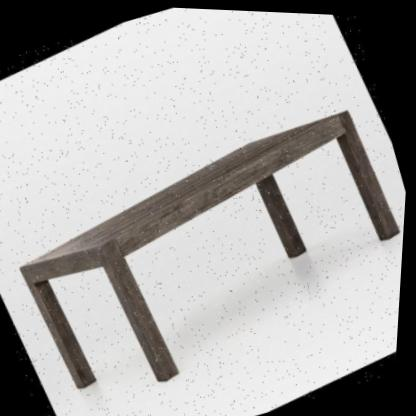Table: (0, 34, 414, 416)
